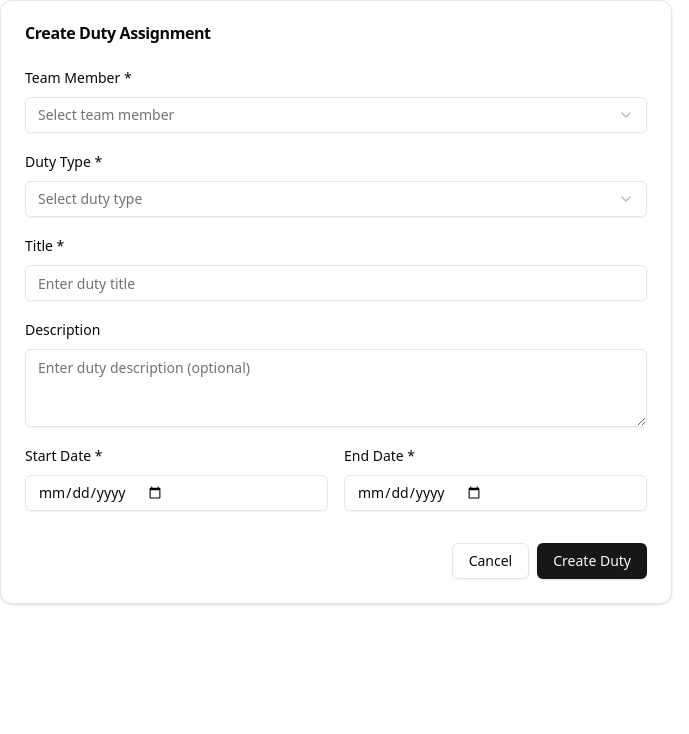
Test: DutyForm › validates required fields
What coordinates should you click on to do the following:
click the button "Create Duty"
I would click on:
 (592, 561)
Its box is [537,543,647,579].
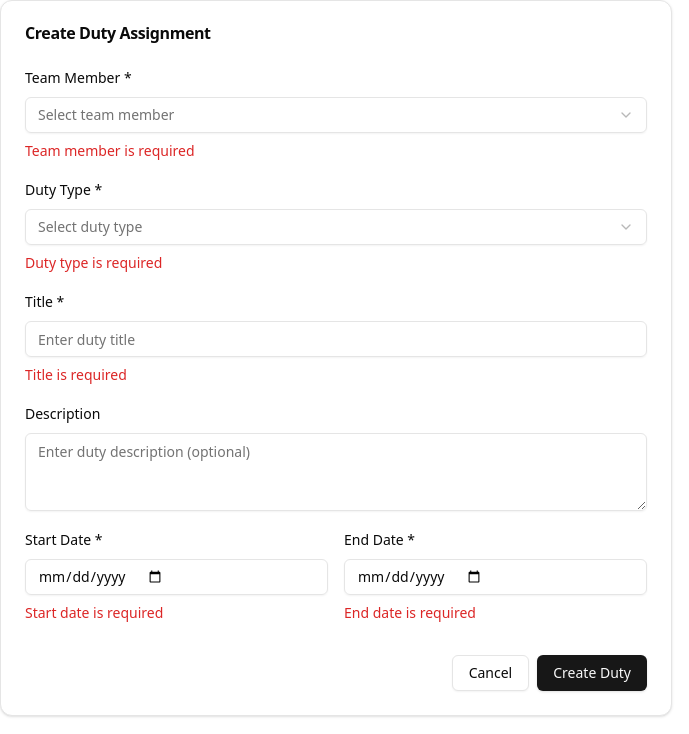
Expected: the text "Team member is required" is shown, [25,141,194,160]
Expected: the text "Duty type is required" is shown, [25,253,162,272]
Expected: the text "Title is required" is shown, [25,365,127,384]
